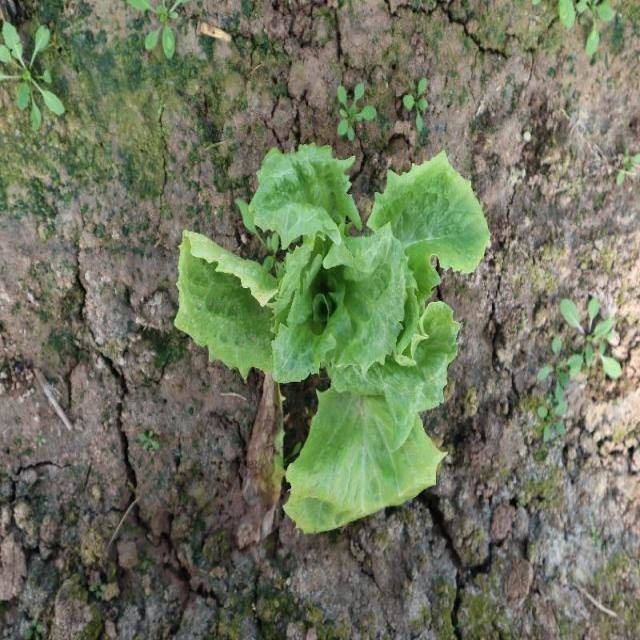crop: (175, 148, 493, 534)
